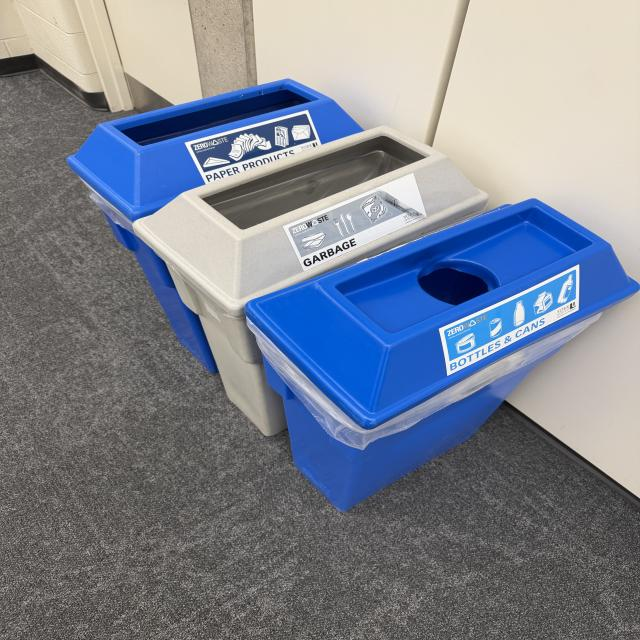Dustbin: (69, 79, 640, 513)
